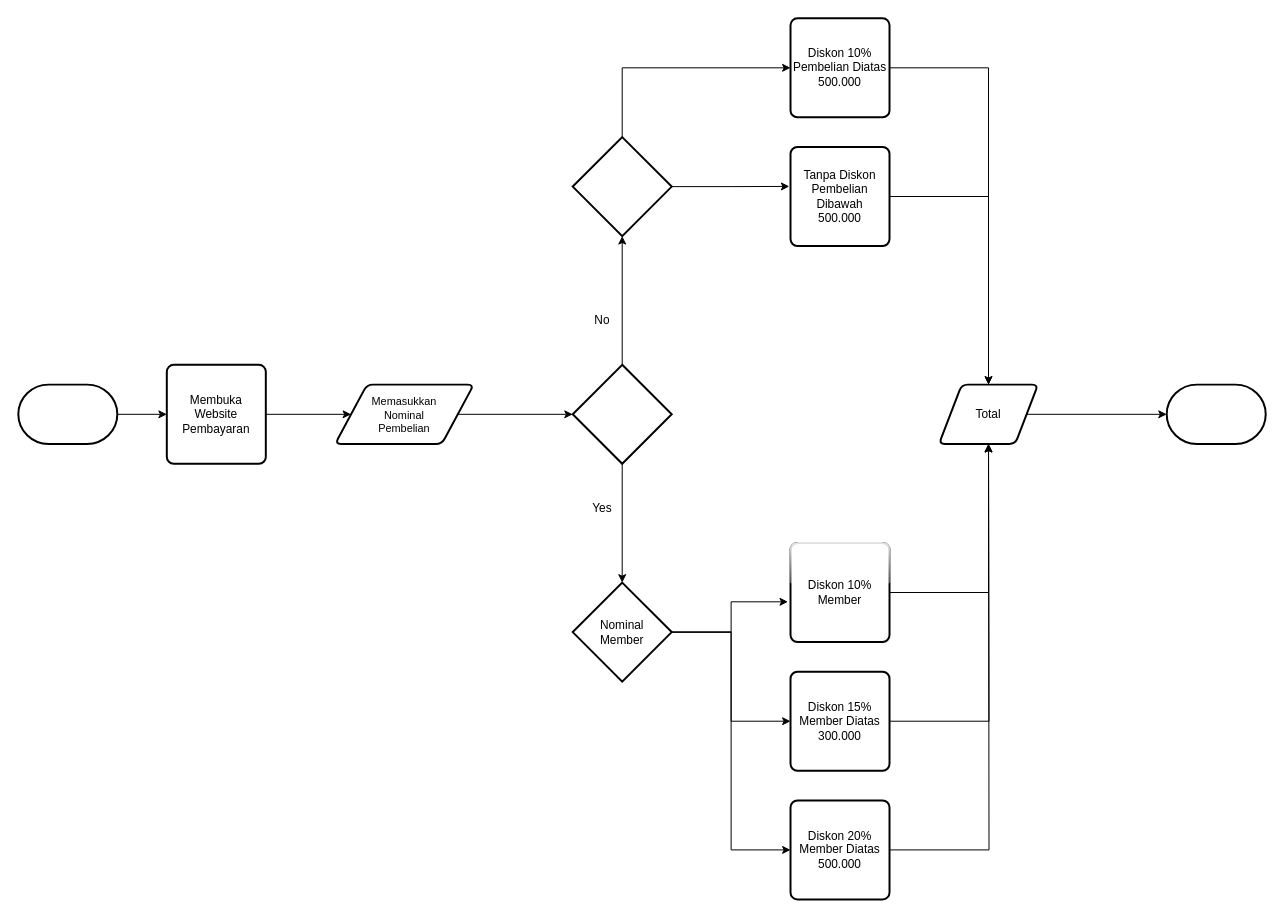
The diagram is 1283 pixels wide and 917 high, and some of its shapes have lost their labels. Here are the shapes that lost their labels. From the top down, the centre of each, then its label:
At (621,186): "Nominal Non-Member".
At (67,414): "Start".
At (621,413): "Member".
At (1215,414): "end".
